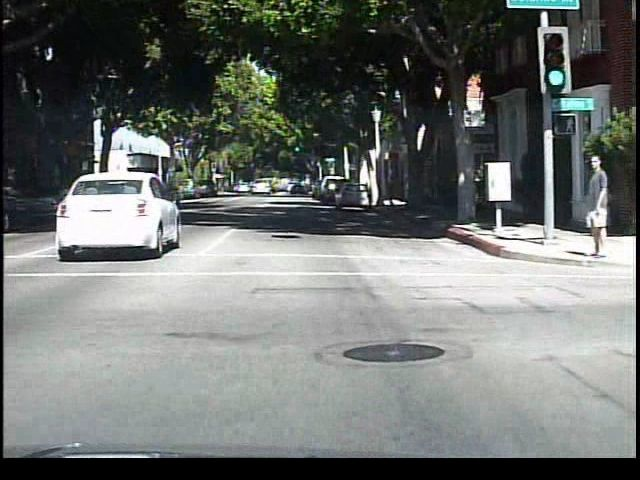person: (577, 149, 609, 263)
